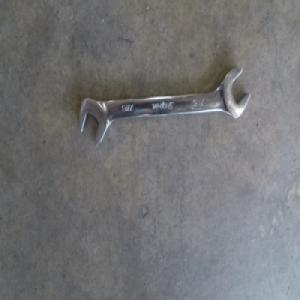Wrench: (83, 62, 245, 140)
